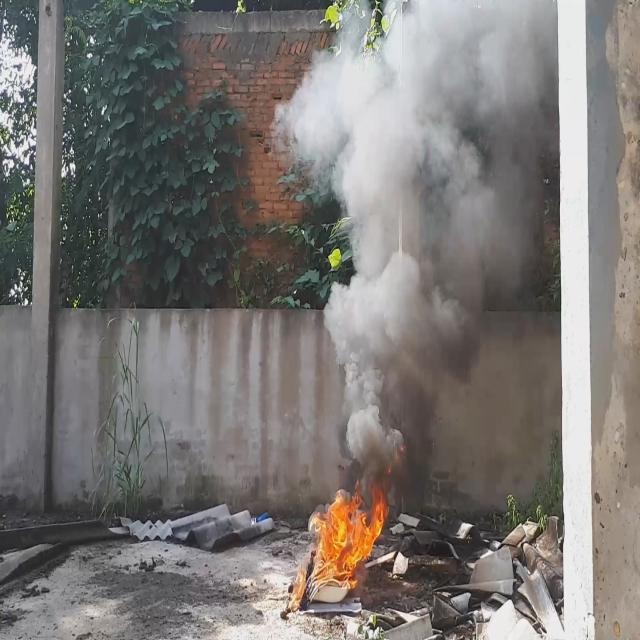Fire: (311, 473, 393, 586)
Smoke: (271, 0, 547, 503)
